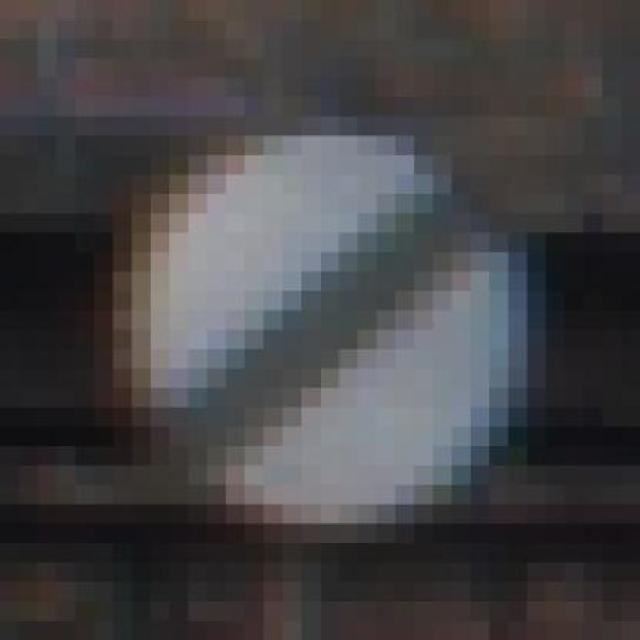End of all speed and passing limits: (94, 116, 546, 544)
